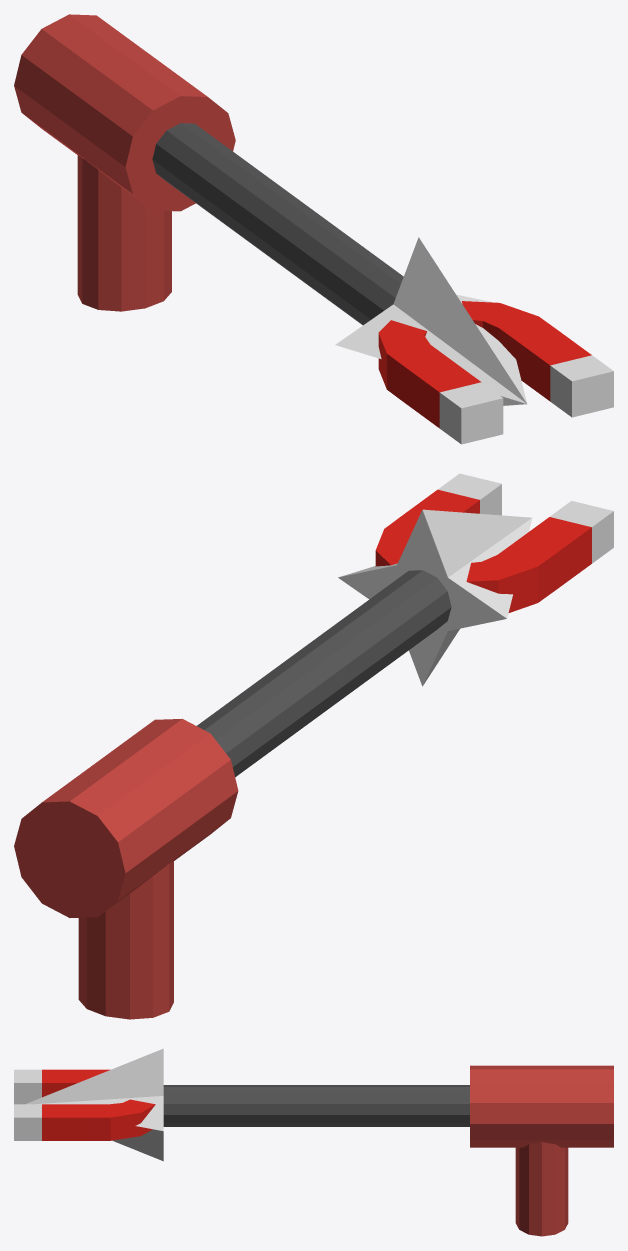
File: Harpoon 1.fbx
3 views of the same model, one above another, from view 1: azimuth 30°, elevation 25°; view 2: azimuth 150°, elevation 25°; view 3: azimuth 270°, elevation 25° (orthographic). The views are drawn at different scales.
Parts seen in each view (by area): view 1: Harpoon Holder, Harpoon, Magnet, Hook; view 2: Harpoon Holder, Harpoon, Magnet, Hook; view 3: Harpoon Holder, Harpoon, Magnet, Hook.
Boxes of the visible parts, x1,y1,x2,y2 form: Harpoon Holder: (14, 14, 235, 311); Harpoon: (152, 123, 403, 325); Magnet: (378, 301, 613, 444); Hook: (335, 237, 527, 405); Harpoon Holder: (14, 718, 238, 1019); Harpoon: (197, 570, 451, 777); Magnet: (375, 473, 613, 612); Hook: (338, 509, 532, 686); Harpoon Holder: (470, 1065, 613, 1236); Harpoon: (163, 1085, 469, 1126); Magnet: (14, 1069, 155, 1140); Hook: (25, 1048, 163, 1161).
Size of the model in its own units: 1.51 by 2.34 by 7.27.
